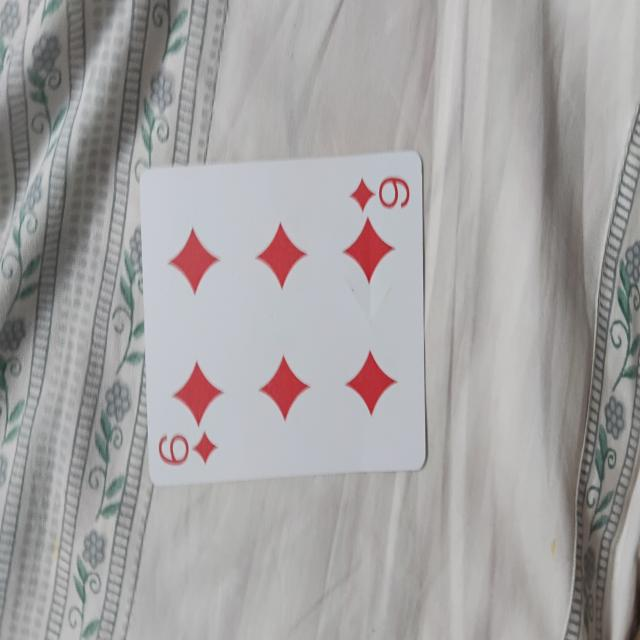6D: (144, 170, 426, 475)
